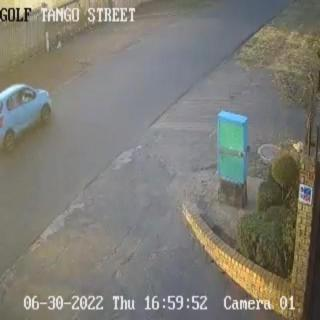car: (0, 84, 52, 152)
